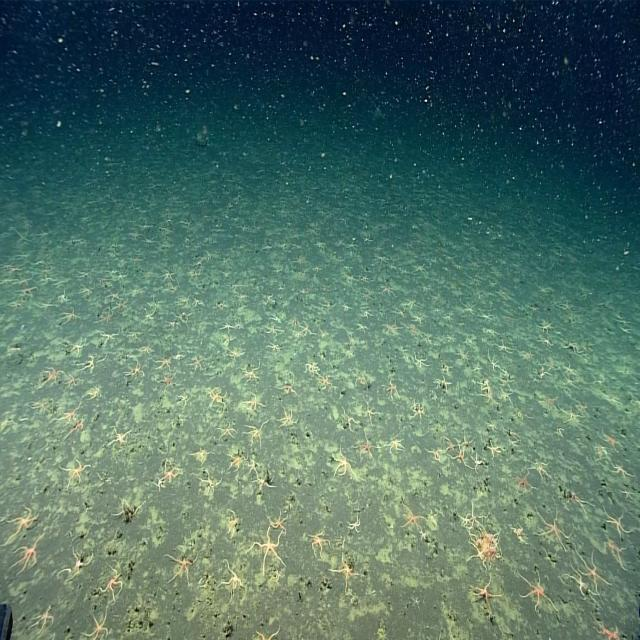brittle-stars: (562, 556, 604, 610), (246, 524, 286, 575), (533, 500, 572, 552), (515, 566, 559, 612), (0, 504, 39, 548), (7, 534, 43, 576), (468, 575, 506, 614), (600, 502, 637, 542), (55, 546, 93, 584), (327, 552, 361, 593), (600, 533, 631, 576), (164, 552, 198, 587), (218, 561, 245, 605), (96, 563, 124, 605), (331, 436, 358, 479), (111, 494, 148, 523), (58, 458, 92, 489), (400, 498, 427, 537), (348, 432, 384, 461), (480, 524, 506, 564), (189, 467, 223, 497), (562, 485, 595, 515), (25, 602, 56, 633), (242, 418, 271, 450), (353, 396, 383, 426), (82, 608, 109, 640), (468, 384, 502, 408), (465, 539, 488, 574), (524, 458, 556, 483), (274, 401, 302, 429), (556, 400, 586, 426), (107, 424, 132, 454), (188, 440, 212, 471), (236, 357, 262, 385), (254, 468, 278, 498), (306, 530, 332, 557), (65, 334, 91, 361), (341, 402, 364, 432), (228, 448, 255, 473), (214, 416, 239, 443), (257, 612, 281, 640), (63, 415, 87, 443), (153, 372, 183, 394), (382, 435, 407, 459), (513, 473, 537, 498), (276, 374, 300, 399), (467, 500, 487, 530), (39, 365, 65, 388), (241, 391, 268, 413), (593, 621, 624, 640), (447, 438, 466, 469), (409, 347, 434, 370), (492, 331, 515, 356), (407, 400, 428, 426), (207, 386, 228, 412), (160, 459, 181, 484), (560, 337, 585, 358), (508, 523, 526, 552), (184, 353, 207, 375), (432, 370, 454, 393), (59, 304, 82, 326), (126, 356, 146, 381), (468, 448, 487, 474), (226, 509, 243, 538), (96, 302, 116, 326), (386, 374, 402, 403), (424, 445, 446, 466), (494, 370, 516, 391), (317, 372, 340, 392), (83, 382, 108, 400), (485, 440, 507, 460), (534, 316, 556, 335), (466, 271, 482, 297), (98, 328, 121, 346), (346, 508, 362, 533), (153, 351, 173, 371), (74, 354, 95, 373), (111, 264, 129, 286), (380, 280, 400, 299), (602, 428, 621, 448), (125, 323, 145, 342), (487, 348, 502, 373), (382, 321, 404, 338), (64, 372, 82, 392), (174, 387, 191, 408), (141, 302, 157, 324), (162, 261, 176, 286), (75, 266, 94, 284), (460, 299, 480, 316), (177, 306, 193, 327), (31, 397, 49, 415), (411, 260, 431, 276), (458, 430, 474, 450), (300, 317, 314, 339), (504, 422, 521, 440), (454, 349, 472, 366), (516, 348, 534, 365), (593, 440, 608, 460), (263, 322, 284, 336), (304, 360, 320, 378), (476, 309, 494, 325), (409, 308, 425, 326), (538, 395, 556, 411), (190, 293, 206, 311), (136, 344, 155, 359), (609, 466, 637, 476), (483, 416, 499, 433), (562, 360, 578, 377), (113, 298, 130, 314), (580, 338, 598, 353), (162, 283, 181, 297), (264, 341, 286, 353), (17, 285, 39, 297), (620, 485, 636, 501), (470, 359, 485, 376), (494, 287, 511, 302), (353, 320, 371, 334), (288, 321, 300, 342), (220, 319, 238, 333), (430, 288, 444, 306), (171, 342, 185, 360), (78, 283, 96, 297), (562, 379, 581, 392), (444, 432, 455, 454), (410, 590, 422, 610), (318, 300, 338, 312), (270, 304, 282, 324), (404, 295, 420, 310), (96, 274, 112, 289), (191, 256, 206, 272), (462, 331, 476, 348), (262, 291, 276, 307), (55, 291, 71, 305), (534, 366, 552, 378), (344, 271, 358, 286), (458, 513, 472, 528), (222, 334, 236, 348), (359, 291, 373, 305), (261, 239, 274, 254), (153, 474, 165, 490), (554, 423, 566, 439), (356, 310, 375, 320), (537, 283, 551, 296), (536, 336, 554, 346), (439, 310, 454, 322), (316, 320, 326, 338), (213, 298, 228, 310), (444, 332, 456, 346), (340, 300, 352, 314), (165, 319, 179, 329), (530, 375, 540, 384), (361, 274, 372, 282)
